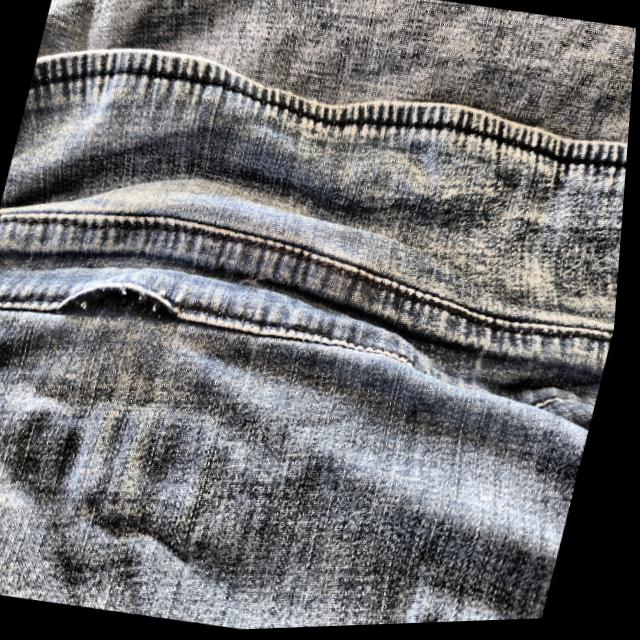seam: (45, 259, 201, 349)
